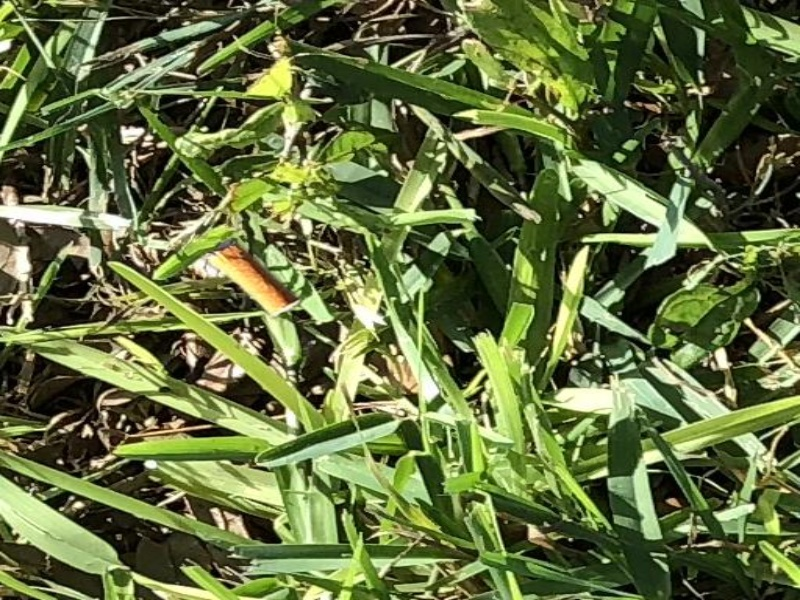cig: (200, 243, 304, 318)
